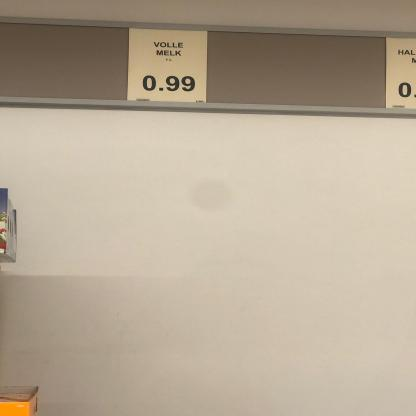prtg: (127, 29, 210, 105), (385, 38, 415, 110)
